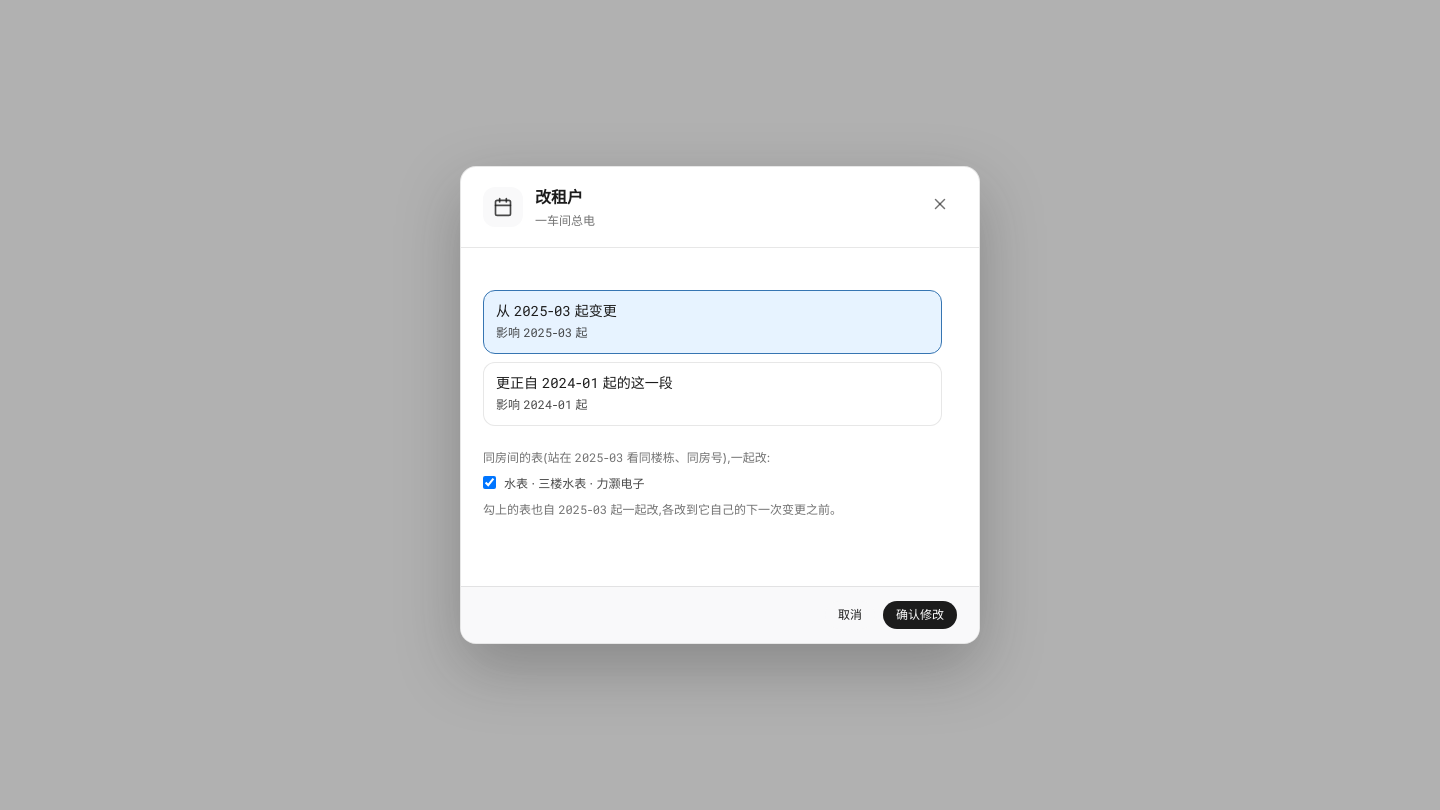
改归属弹框 › 同房间的表和这块表用同一个起始月写:选哪种改法就写明从哪个月起
Click the radio button with class "ad-opt" showing "更正自 2024-01 起的这一段 影响 2024-01 起" at {"x": 584, "y": 382}, box x1=483 y1=362 x2=942 y2=426
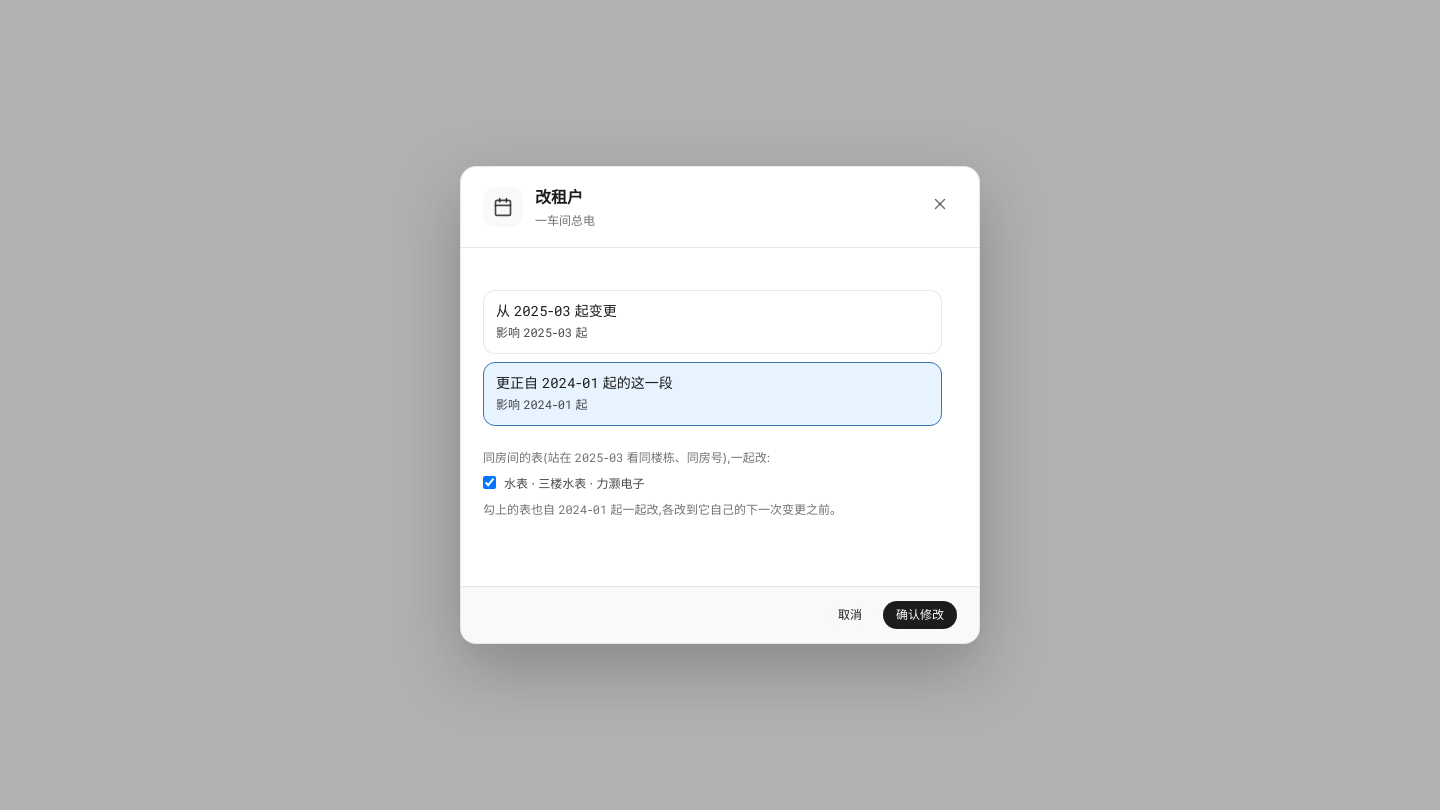
Now the text "勾上的表也自 2024-01 起一起改" is shown, box x1=483 y1=502 x2=842 y2=517
